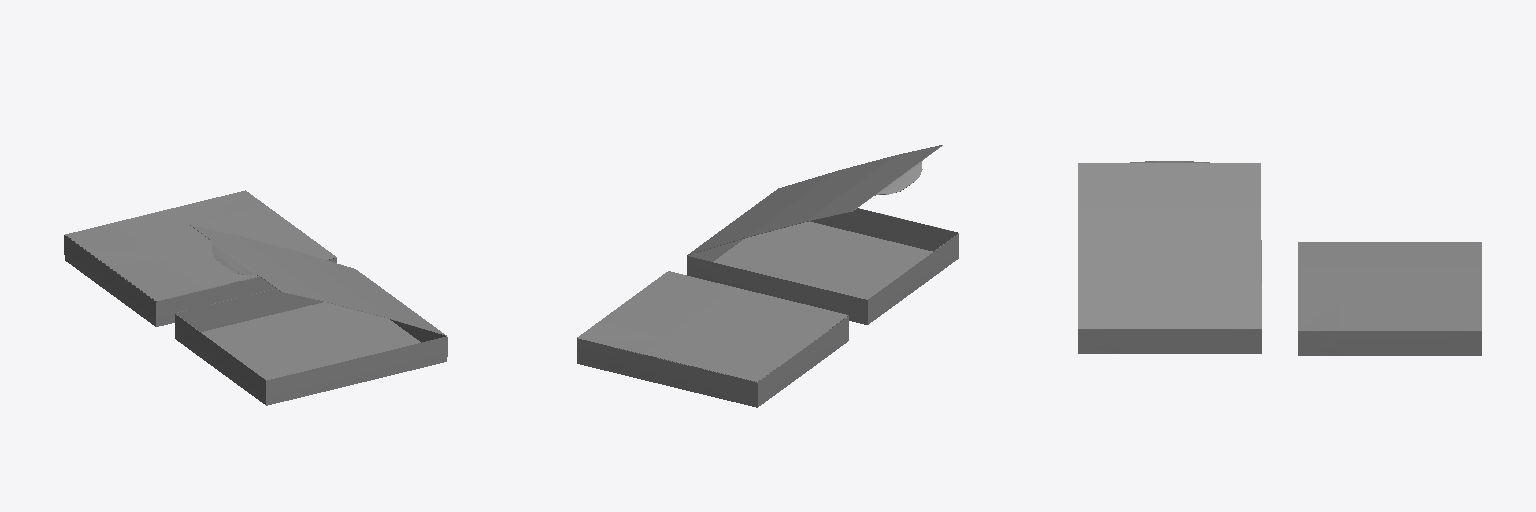
File: Pizza2.obj
3 renders of one model, left to right at view 1: azimuth 30°, elevation 25°; view 2: azimuth 150°, elevation 25°; view 3: azimuth 270°, elevation 25°, orthographic.
Parts seen in each view (by area): view 1: Pizza_3d_m, Pizza_3d_0; view 2: Pizza_3d_m, Pizza_3d_0; view 3: Pizza_3d_m, Pizza_3d_0.
Boxes of the visible parts, x1=… form: Pizza_3d_m: x1=175, y1=225, x2=447, y2=405; Pizza_3d_0: x1=64, y1=190, x2=336, y2=326; Pizza_3d_m: x1=687, y1=145, x2=958, y2=324; Pizza_3d_0: x1=577, y1=271, x2=848, y2=407; Pizza_3d_m: x1=1078, y1=161, x2=1261, y2=353; Pizza_3d_0: x1=1298, y1=242, x2=1481, y2=355.
Size of the model in its own units: 1.6 by 0.9444 by 3.09.